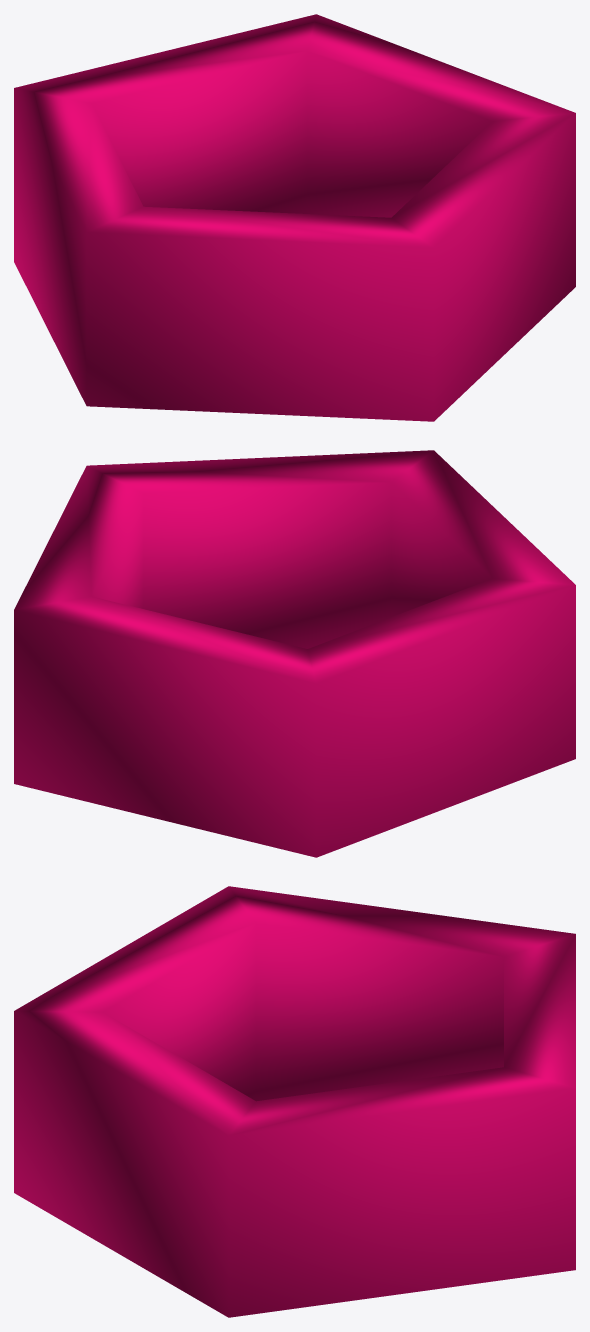
The model's file is Tire_01_Lod3.fbx.
3 views of the same model, one above another, from view 1: azimuth 30°, elevation 25°; view 2: azimuth 150°, elevation 25°; view 3: azimuth 270°, elevation 25° (orthographic). The views are drawn at different scales.
Visible parts, largest first — view 1: Tire_01_Lod3; view 2: Tire_01_Lod3; view 3: Tire_01_Lod3.
Part boxes in pixels (left/top/right/bottom): Tire_01_Lod3: left=14, top=14, right=575, bottom=421; Tire_01_Lod3: left=14, top=450, right=575, bottom=857; Tire_01_Lod3: left=14, top=886, right=575, bottom=1317.
Bounding box in the file's own units: 71.43 × 24.26 × 67.94.
